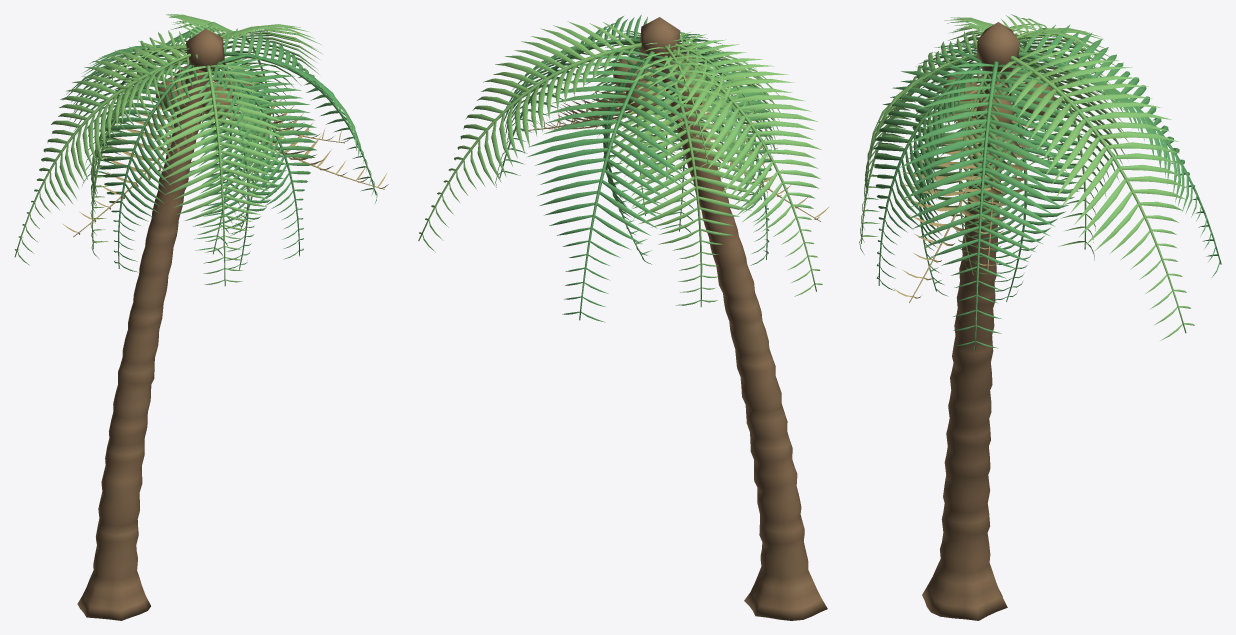
File: palm_a.glb
The picture shows the model from 3 angles, left to right: view 1: azimuth 30°, elevation 25°; view 2: azimuth 150°, elevation 25°; view 3: azimuth 270°, elevation 25°; orthographic projection. The views are drawn at different scales.
Visible parts, largest first — view 1: palm_a; view 2: palm_a; view 3: palm_a.
Boxes of the visible parts, left/top/right/bottom form: palm_a: left=14, top=14, right=388, bottom=620; palm_a: left=418, top=14, right=829, bottom=620; palm_a: left=859, top=14, right=1221, bottom=620.
Size of the model in its own units: 5.77 by 9 by 4.62.
